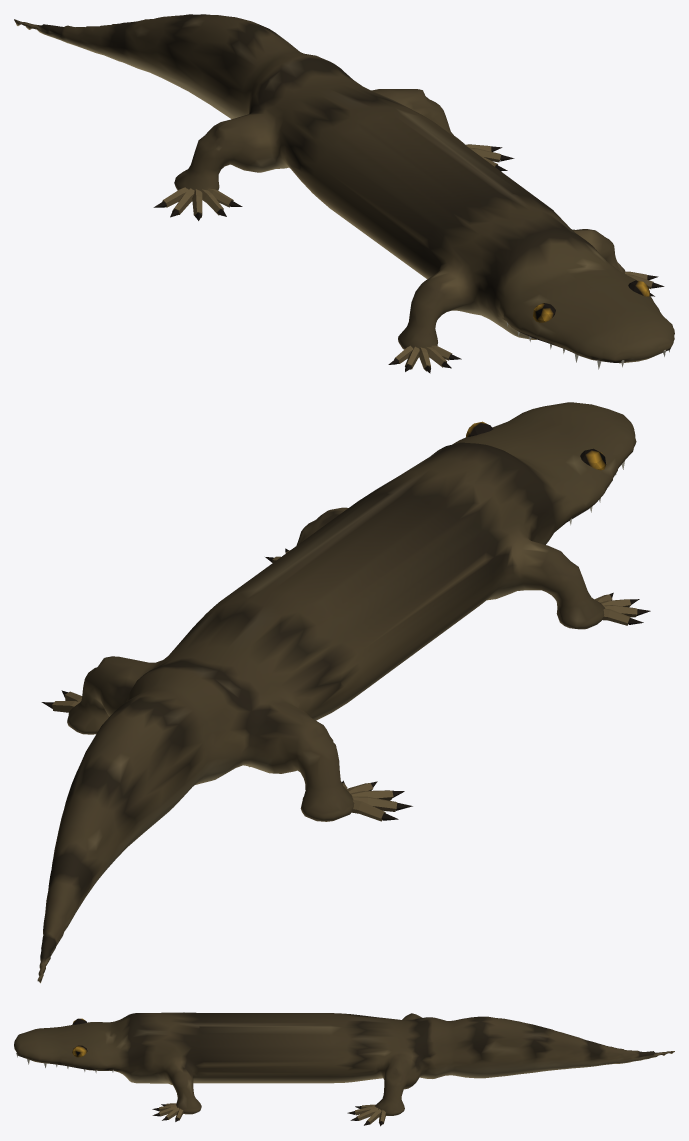
File: Pederpes.fbx
3 renders of one model, top to bottom at view 1: azimuth 30°, elevation 25°; view 2: azimuth 150°, elevation 25°; view 3: azimuth 270°, elevation 25°, orthographic. The views are drawn at different scales.
Visible parts, largest first — view 1: Pederpes; view 2: Pederpes; view 3: Pederpes.
Part boxes in pixels (x1,y1,x2,y2): Pederpes: [14, 14, 674, 373]; Pederpes: [37, 402, 650, 983]; Pederpes: [14, 1012, 674, 1126].
Size of the model in its own units: 0.3627 by 0.1167 by 1.07.
